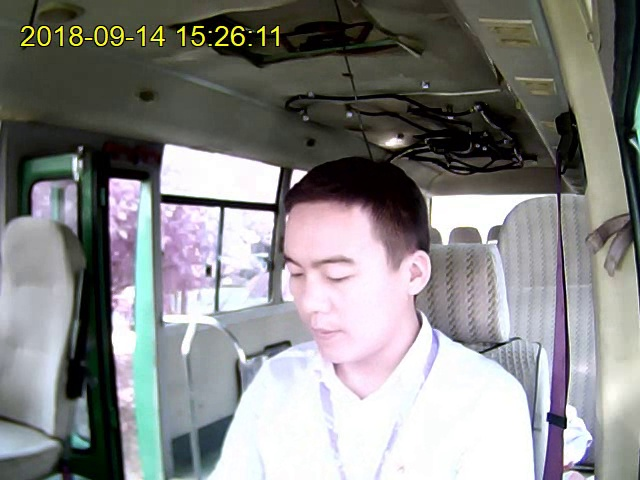closed_eye: (321, 269, 360, 285), (286, 269, 305, 283)
closed_mouth: (305, 325, 346, 344)
